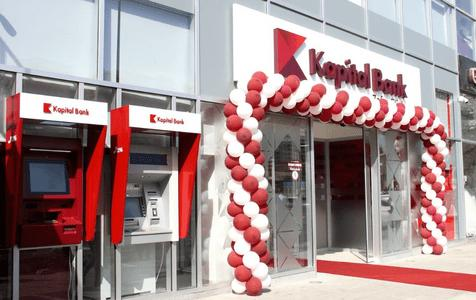Kapital Bank: (271, 25, 308, 82)
